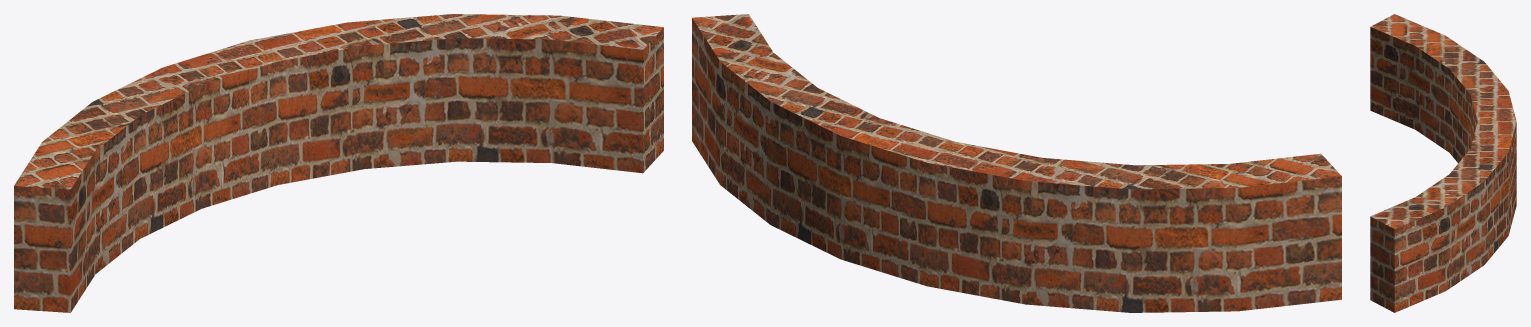
File: HUMPTY WALL.FBX
3 views of the same model, side by side, from view 1: azimuth 30°, elevation 25°; view 2: azimuth 150°, elevation 25°; view 3: azimuth 270°, elevation 25° (orthographic). The views are drawn at different scales.
Visible parts, largest first — view 1: Box001; view 2: Box001; view 3: Box001.
Part boxes in pixels (box(x1,y1,x2,y2)): Box001: box(14, 14, 663, 312); Box001: box(692, 14, 1341, 312); Box001: box(1370, 14, 1516, 312).
Bounding box in the file's own units: 275 × 50.01 × 79.22.
Materials: 1 (1 with a texture image).
